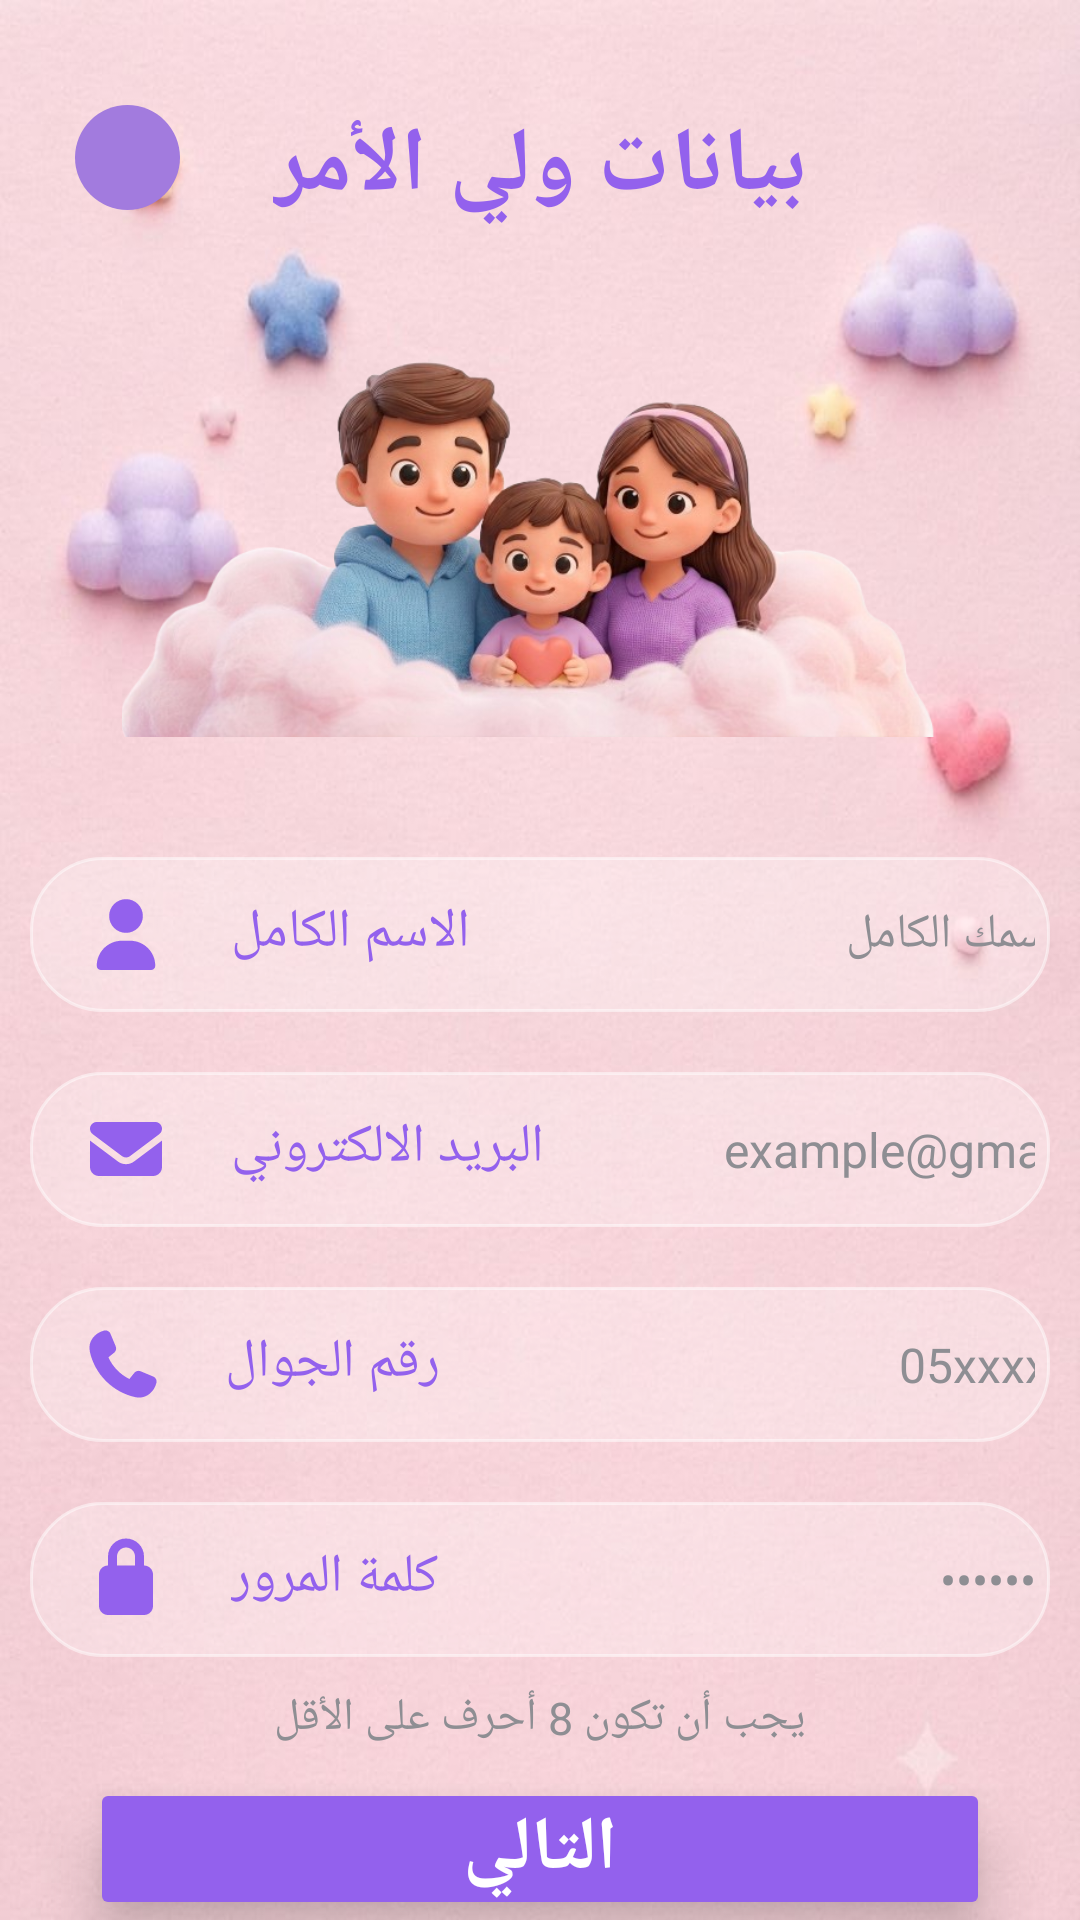

Screen size 1080px x 1920px. Icon name, then its center in pixels as point (x, y):
email full: point (126, 1149)
lock full: point (126, 1576)
phone full: point (123, 1364)
user full: point (126, 934)
